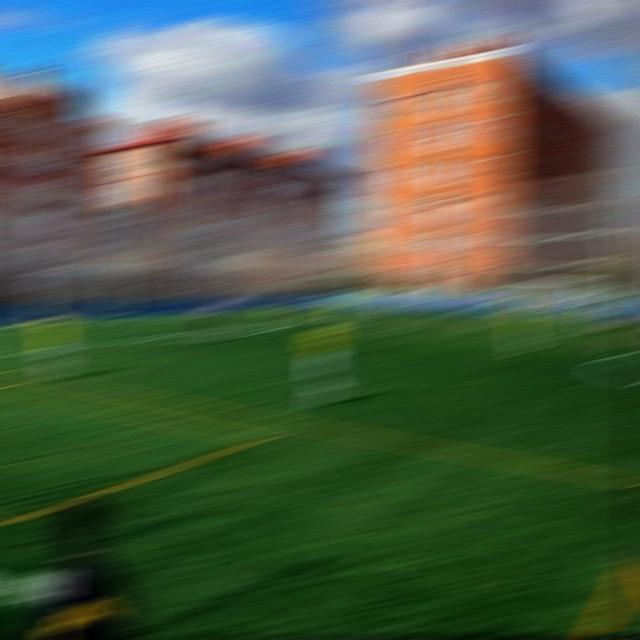bigarea_top_inner: (349, 310, 374, 324)
bigarea_top_outter: (242, 308, 269, 315)
bottom_arc_area_intersection: (128, 333, 155, 346)
corner: (293, 305, 317, 307)
smallarea_bottom_inner: (4, 326, 27, 337)
smallarea_top_inner: (189, 310, 212, 322)
smallarea_top_outter: (156, 311, 179, 318)
top_arc_area_intersection: (268, 319, 293, 328)
